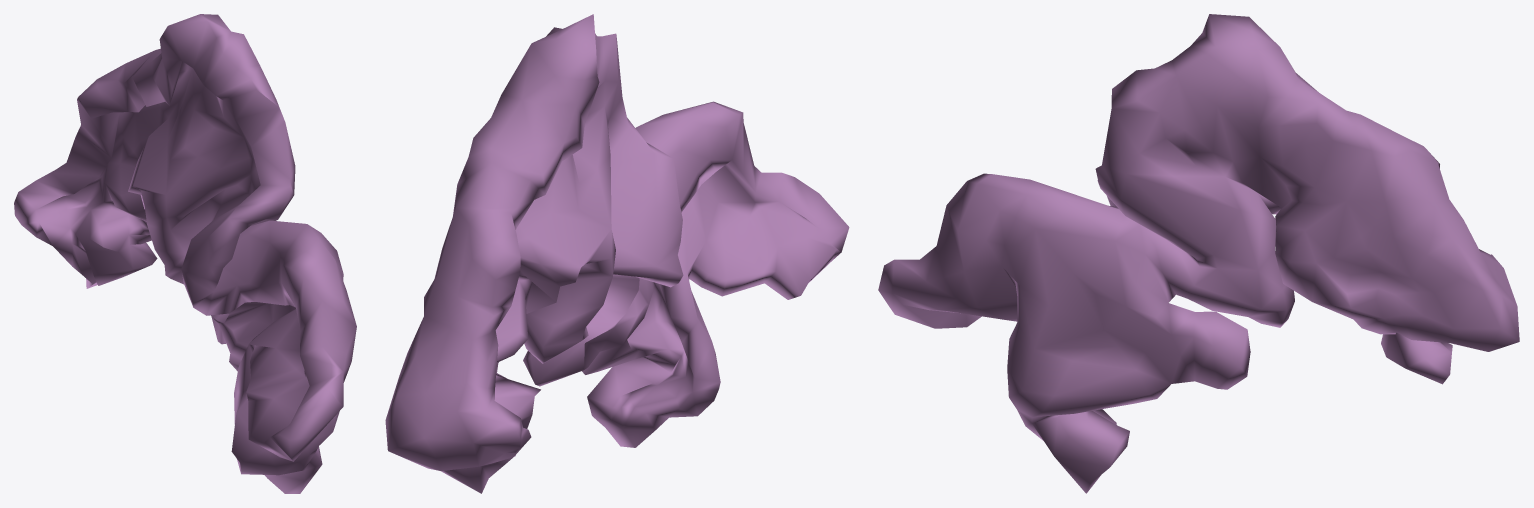
The picture shows the model from 3 angles, left to right: view 1: azimuth 30°, elevation 25°; view 2: azimuth 150°, elevation 25°; view 3: azimuth 270°, elevation 25°; orthographic projection. The views are drawn at different scales.
Visible parts, largest first — view 1: 右侧楔前叶; view 2: 右侧楔前叶; view 3: 右侧楔前叶.
Boxes of the visible parts, box(x1,y1,x2,y2) form: 右侧楔前叶: box(14, 14, 356, 493); 右侧楔前叶: box(385, 14, 849, 493); 右侧楔前叶: box(878, 14, 1519, 493).
Size of the model in its own units: 0.0242 by 0.0794 by 0.0999.
